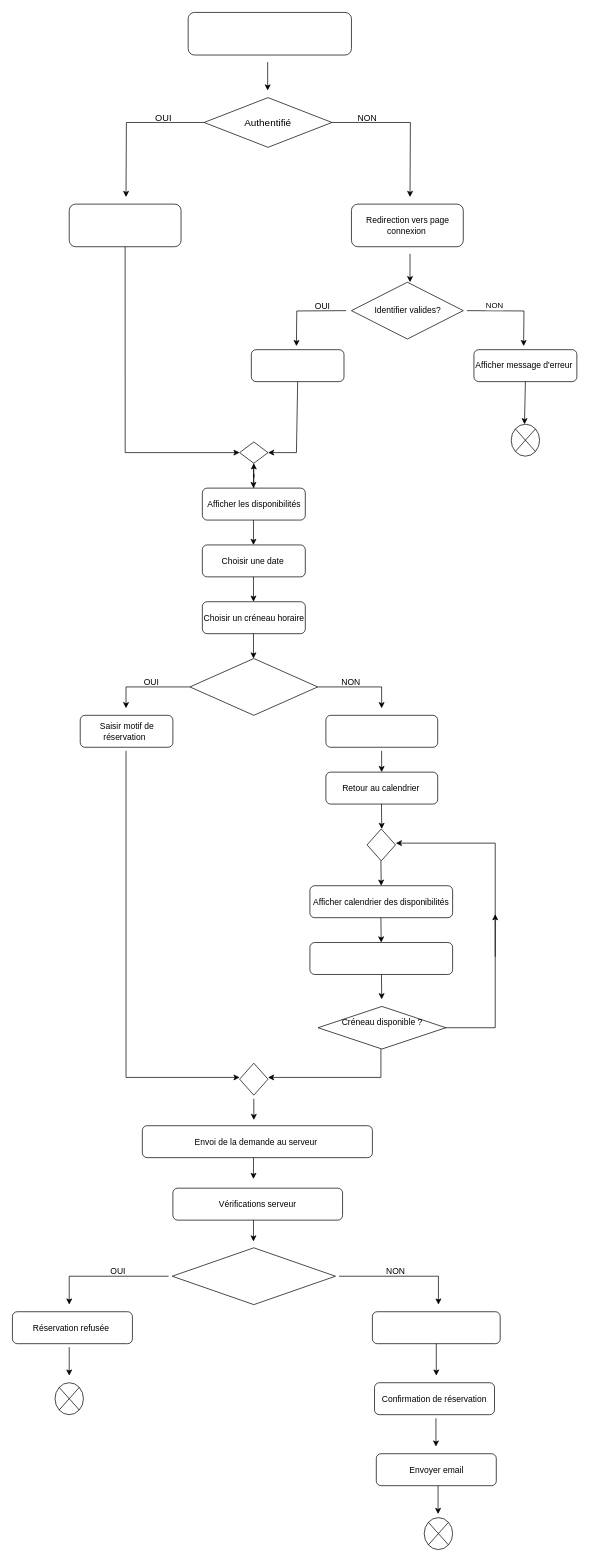
Image size: 589x1562. Some labels were removed from this diagram. Each missing label, with the box of its shape:
Accès autorisé: (251, 349, 344, 382)
Accéder à la page "Réserver": (69, 203, 181, 247)
Conflits ou droits insuffisants ?: (171, 1247, 335, 1305)
Créer entrée dans la base de donnés: (372, 1311, 500, 1344)
Créneau disponible?: (189, 658, 318, 715)
Créneau indisponible: (325, 715, 438, 747)
Utilisateur accède à l'application: (187, 12, 351, 55)
Utilisateur choisit date et horraire: (309, 942, 453, 974)
